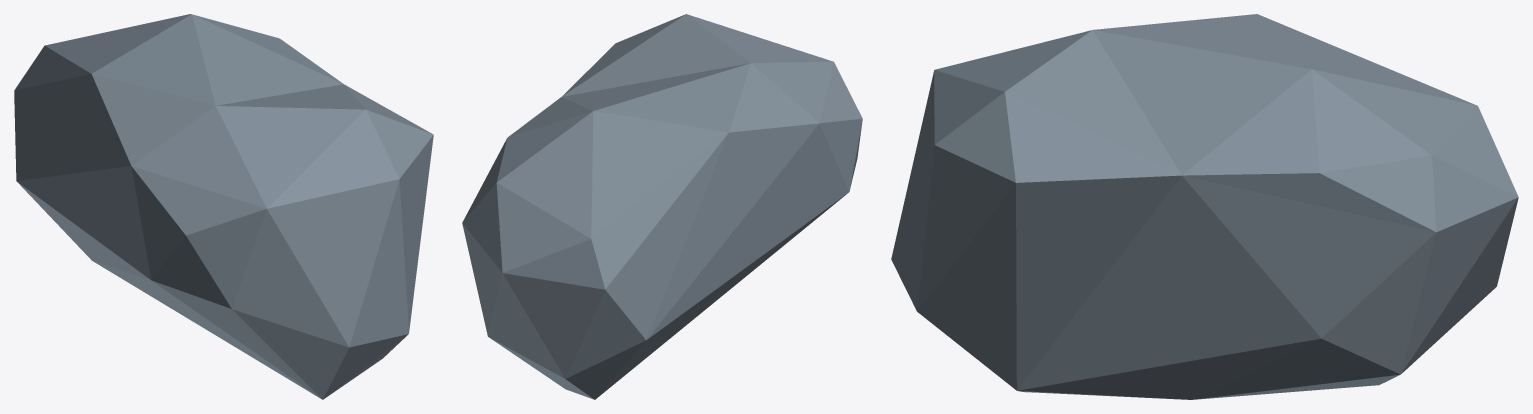
File: rock2.gltf
3 renders of one model, left to right at view 1: azimuth 30°, elevation 25°; view 2: azimuth 150°, elevation 25°; view 3: azimuth 270°, elevation 25°, orthographic. The views are drawn at different scales.
Parts seen in each view (by area): view 1: BigRock3; view 2: BigRock3; view 3: BigRock3.
Boxes of the visible parts, <box> form: BigRock3: <box>14,14,433,399</box>; BigRock3: <box>462,14,862,399</box>; BigRock3: <box>891,14,1518,399</box>.
Bounding box in the file's own units: 3.94 × 4.05 × 7.14.
